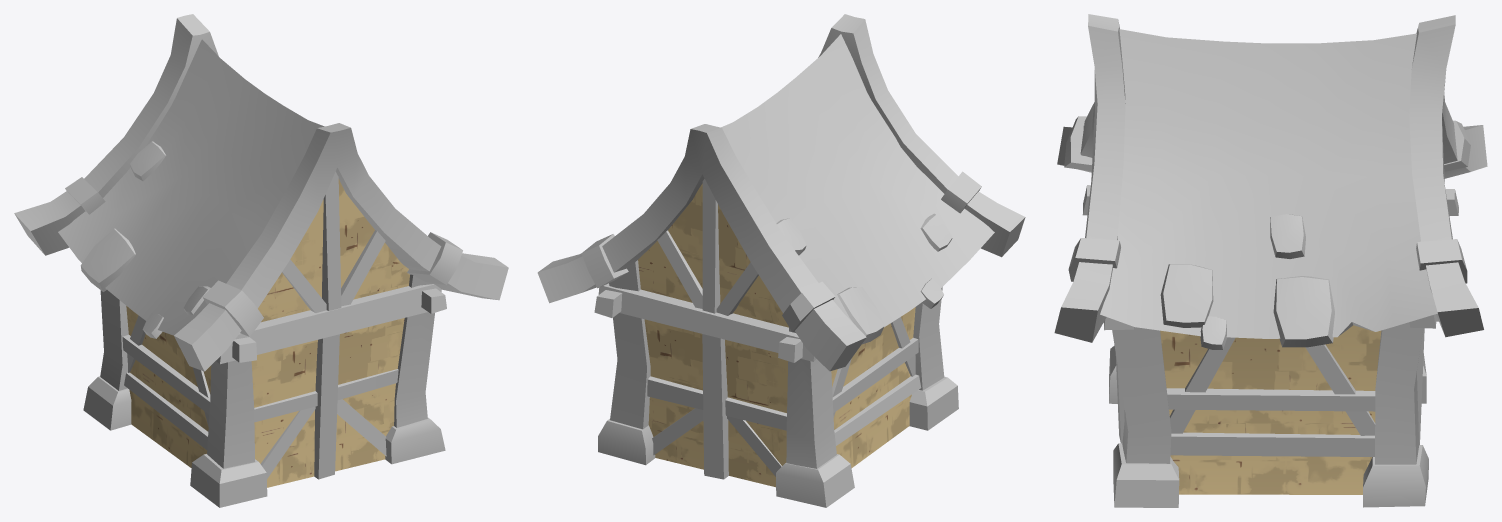
Rendered from SM_BLD_body_v02_02.fbx.
The picture shows the model from 3 angles, left to right: view 1: azimuth 30°, elevation 25°; view 2: azimuth 150°, elevation 25°; view 3: azimuth 270°, elevation 25°; orthographic projection. The views are drawn at different scales.
Parts seen in each view (by area): view 1: SM_BLD_body_v02_02; view 2: SM_BLD_body_v02_02; view 3: SM_BLD_body_v02_02.
Part boxes in pixels (bbox=[...]): SM_BLD_body_v02_02: bbox=[14, 14, 508, 507]; SM_BLD_body_v02_02: bbox=[537, 14, 1025, 507]; SM_BLD_body_v02_02: bbox=[1054, 14, 1487, 507].
Bounding box in the file's own units: 791 × 847 × 788.
